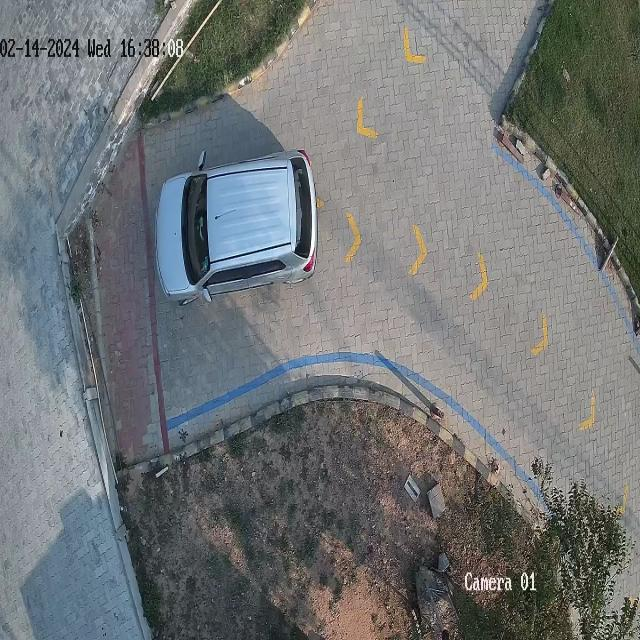car: (155, 151, 318, 307)
